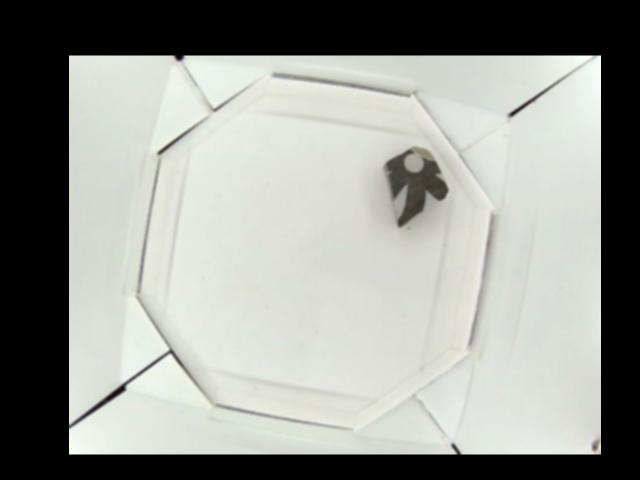China: (384, 147, 447, 227)
